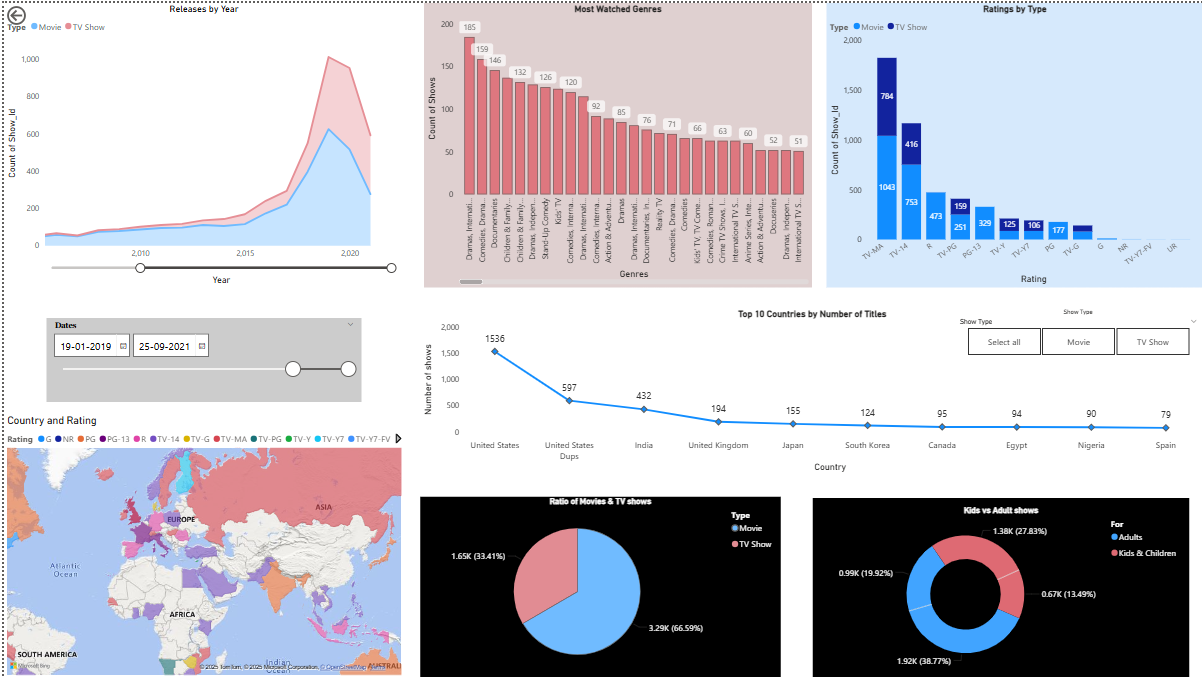

The page's visual inventory and layout, read from the dashboard file:
{"tool":"powerbi","page":{"name":"Page 1","canvas":[1920,1080],"ordinal":0},"visuals":[{"type":"pieChart","title":"Ratio of Movies & TV shows","fields":{"Category":["Netflix_data.Type"],"Y":["CountNonNull(Netflix_data.Type)"]},"box":[665,791,576.7,289.4],"z":0},{"type":"lineChart","title":"Top 10 Countries by Number of Titles","fields":{"Category":["Netflix_data.Country"],"Y":["CountNonNull(Netflix_data.Show_Id)"]},"box":[665,488.3,1255,267.3],"z":1000},{"type":"slicer","title":"Show Type","fields":{"Values":["Netflix_data.Type"]},"box":[1515.1,488.9,404.9,82.1],"z":2000},{"type":"lineClusteredColumnComboChart","title":"Most Watched Genres","fields":{"Category":["Netflix_data.Listed_In"],"Y":["CountNonNull(Netflix_data.Show_Id)"]},"box":[671.7,0,620.9,455.1],"z":3000},{"type":"stackedAreaChart","title":"Releases by Year","fields":{"Category":["Netflix_data.Year"],"Series":["Netflix_data.Type"],"Y":["CountNonNull(Netflix_data.Show_Id)"]},"box":[0,0,640,455.3],"z":4000},{"type":"columnChart","title":"Ratings by Type","fields":{"Category":["Netflix_data.Rating"],"Y":["CountNonNull(Netflix_data.Show_Id)"],"Series":["Netflix_data.Type"]},"box":[1316.8,0,603.2,455.1],"z":5000},{"type":"filledMap","fields":{"Category":["Netflix_data.Country"],"Series":["Netflix_data.Rating"]},"box":[0,658.4,640.7,422],"z":6000},{"type":"donutChart","title":"Kids vs Adult shows","fields":{"Category":["Netflix_data.Kids & Children"],"Y":["CountNonNull(Netflix_data.Show_Id)"],"Series":["Netflix_data.Type"]},"box":[1293.1,791.2,602.7,289.2],"z":7000},{"type":"actionButton","box":[0,0,100,40],"z":8000},{"type":"slicer","fields":{"Values":["Netflix_data.Date_Added"]},"box":[68.5,503.8,503.8,134.8],"z":8001}]}

Visuals, with their boxes in screenshot pixels (x1, y1, x2, y2), scaled from the page's 1920x1080 canvas onto the 1202x677 screenshot:
"Ratio of Movies & TV shows" pieChart: [416,496,777,676]
"Top 10 Countries by Number of Titles" lineChart: [416,306,1201,474]
"Show Type" slicer: [949,306,1201,358]
"Most Watched Genres" lineClusteredColumnComboChart: [421,0,809,285]
"Releases by Year" stackedAreaChart: [0,0,401,285]
"Ratings by Type" columnChart: [824,0,1201,285]
filledMap - Netflix_data.Country x Netflix_data.Rating: [0,413,401,676]
"Kids vs Adult shows" donutChart: [810,496,1187,676]
actionButton: [0,0,63,25]
slicer - Netflix_data.Date_Added: [43,316,358,400]
